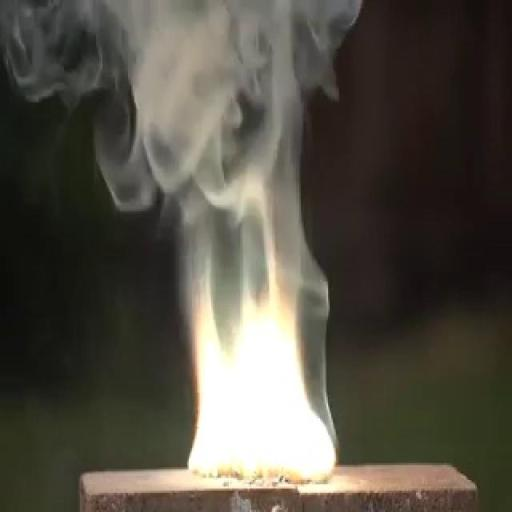smoke: (174, 207, 338, 487)
